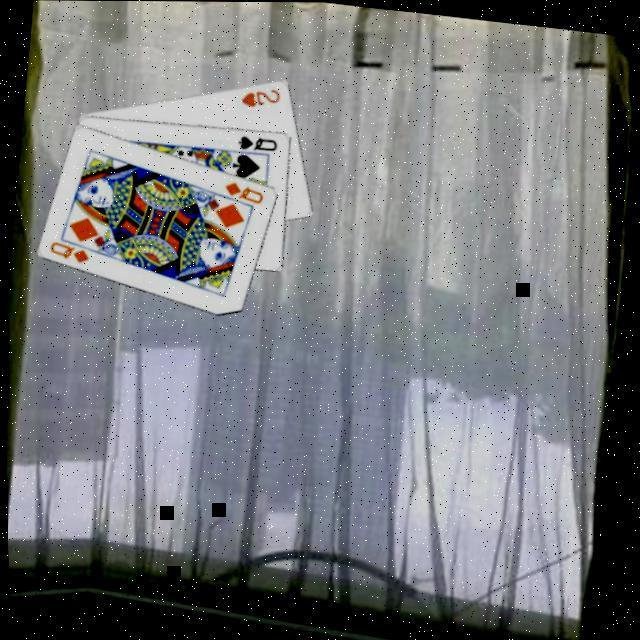2H: (237, 81, 284, 112)
QD: (45, 237, 93, 268), (221, 176, 268, 207)
QS: (234, 131, 281, 156)
